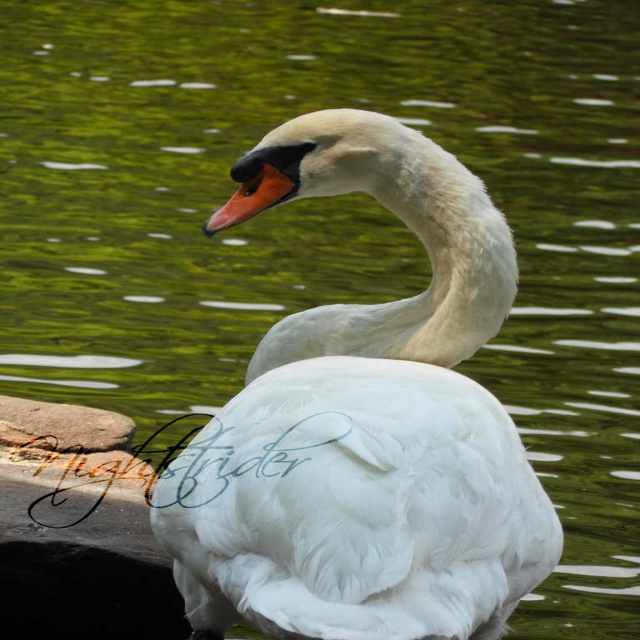Duck: (127, 93, 565, 640)
